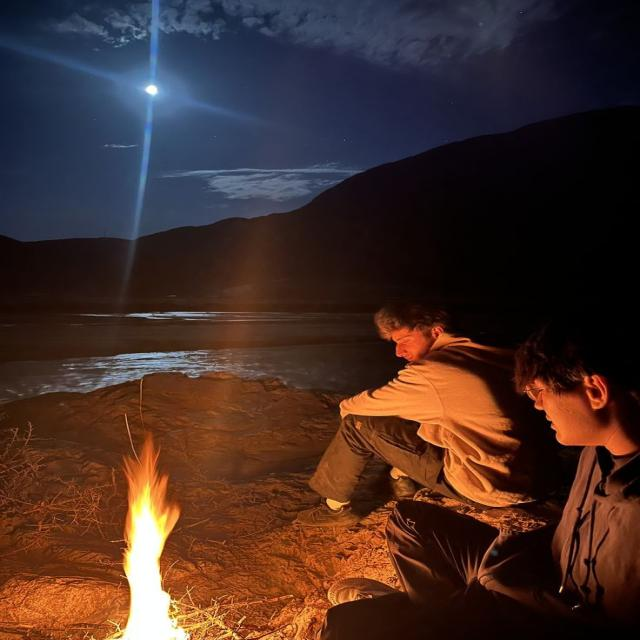fire: (105, 435, 191, 640)
